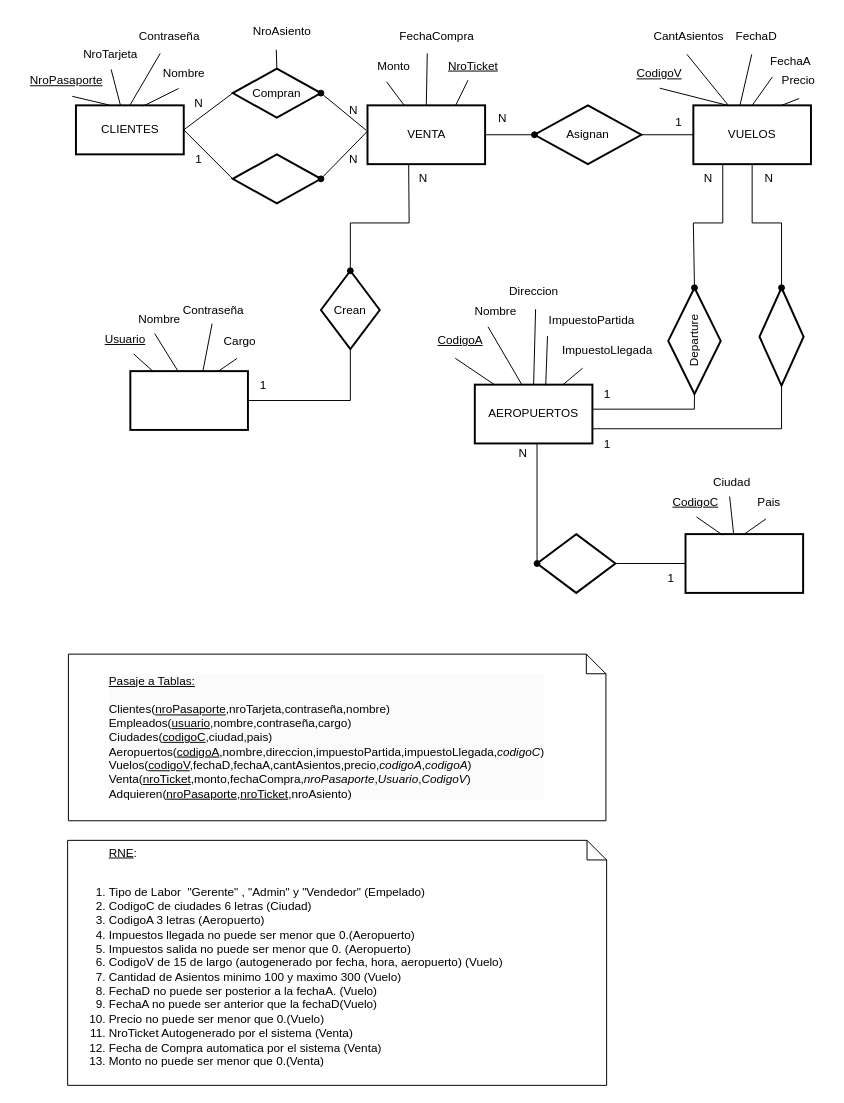
Some shapes in this 844 by 1103 pixel diagram are drawn without their labels. Here are the shapes that lost their labels. From the top down, the centre of each, then its label:
the point at 276,178: Pagan
the point at 781,336: Arrived
the point at 188,400: EMPLEADOS
the point at 576,563: Residen
the point at 744,563: CIUDADES
